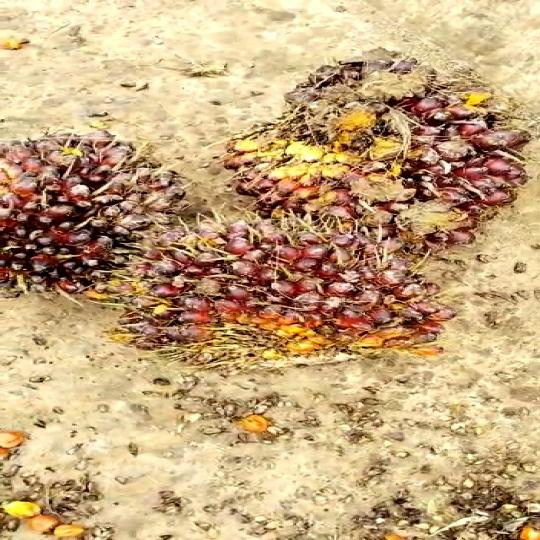kurang masak: (209, 26, 540, 257), (105, 199, 449, 377), (0, 117, 207, 307)
